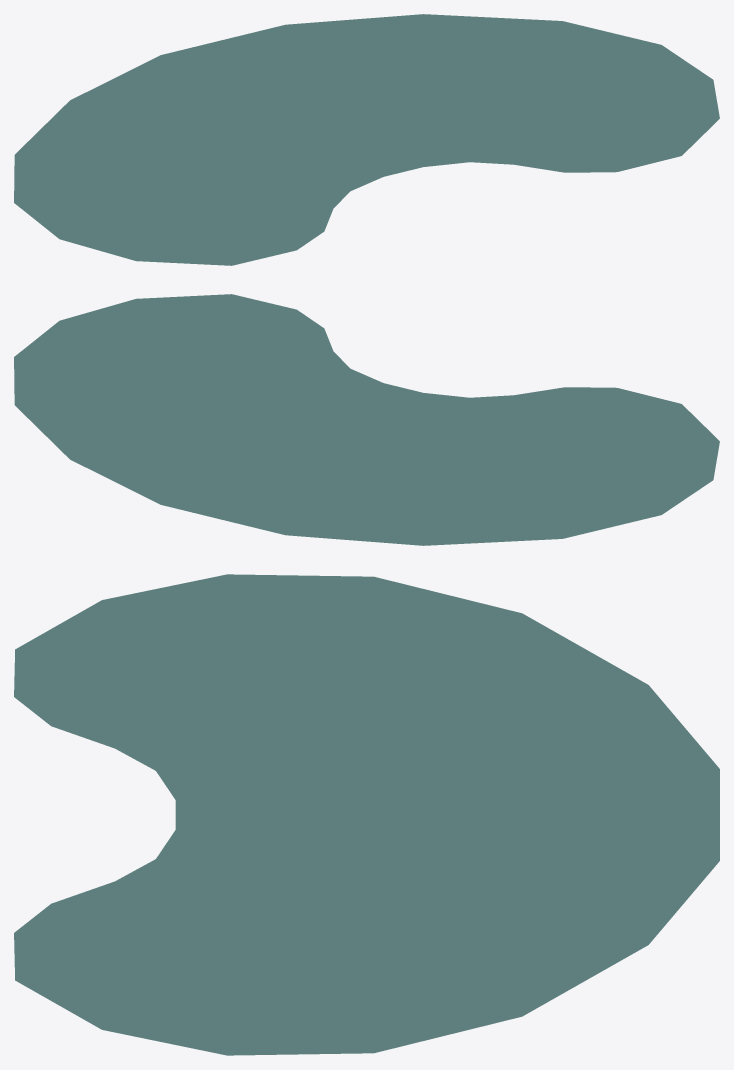
The model's file is pond-2.glb.
3 renders of one model, top to bottom at view 1: azimuth 30°, elevation 25°; view 2: azimuth 150°, elevation 25°; view 3: azimuth 270°, elevation 25°, orthographic. The views are drawn at different scales.
Visible parts, largest first — view 1: pond-2-mesh; view 2: pond-2-mesh; view 3: pond-2-mesh.
Part boxes in pixels (x1=…): pond-2-mesh: x1=14, y1=14, x2=719, y2=265; pond-2-mesh: x1=14, y1=294, x2=719, y2=545; pond-2-mesh: x1=14, y1=574, x2=719, y2=1055.
Bounding box in the file's own units: 280 × 0 × 173.
